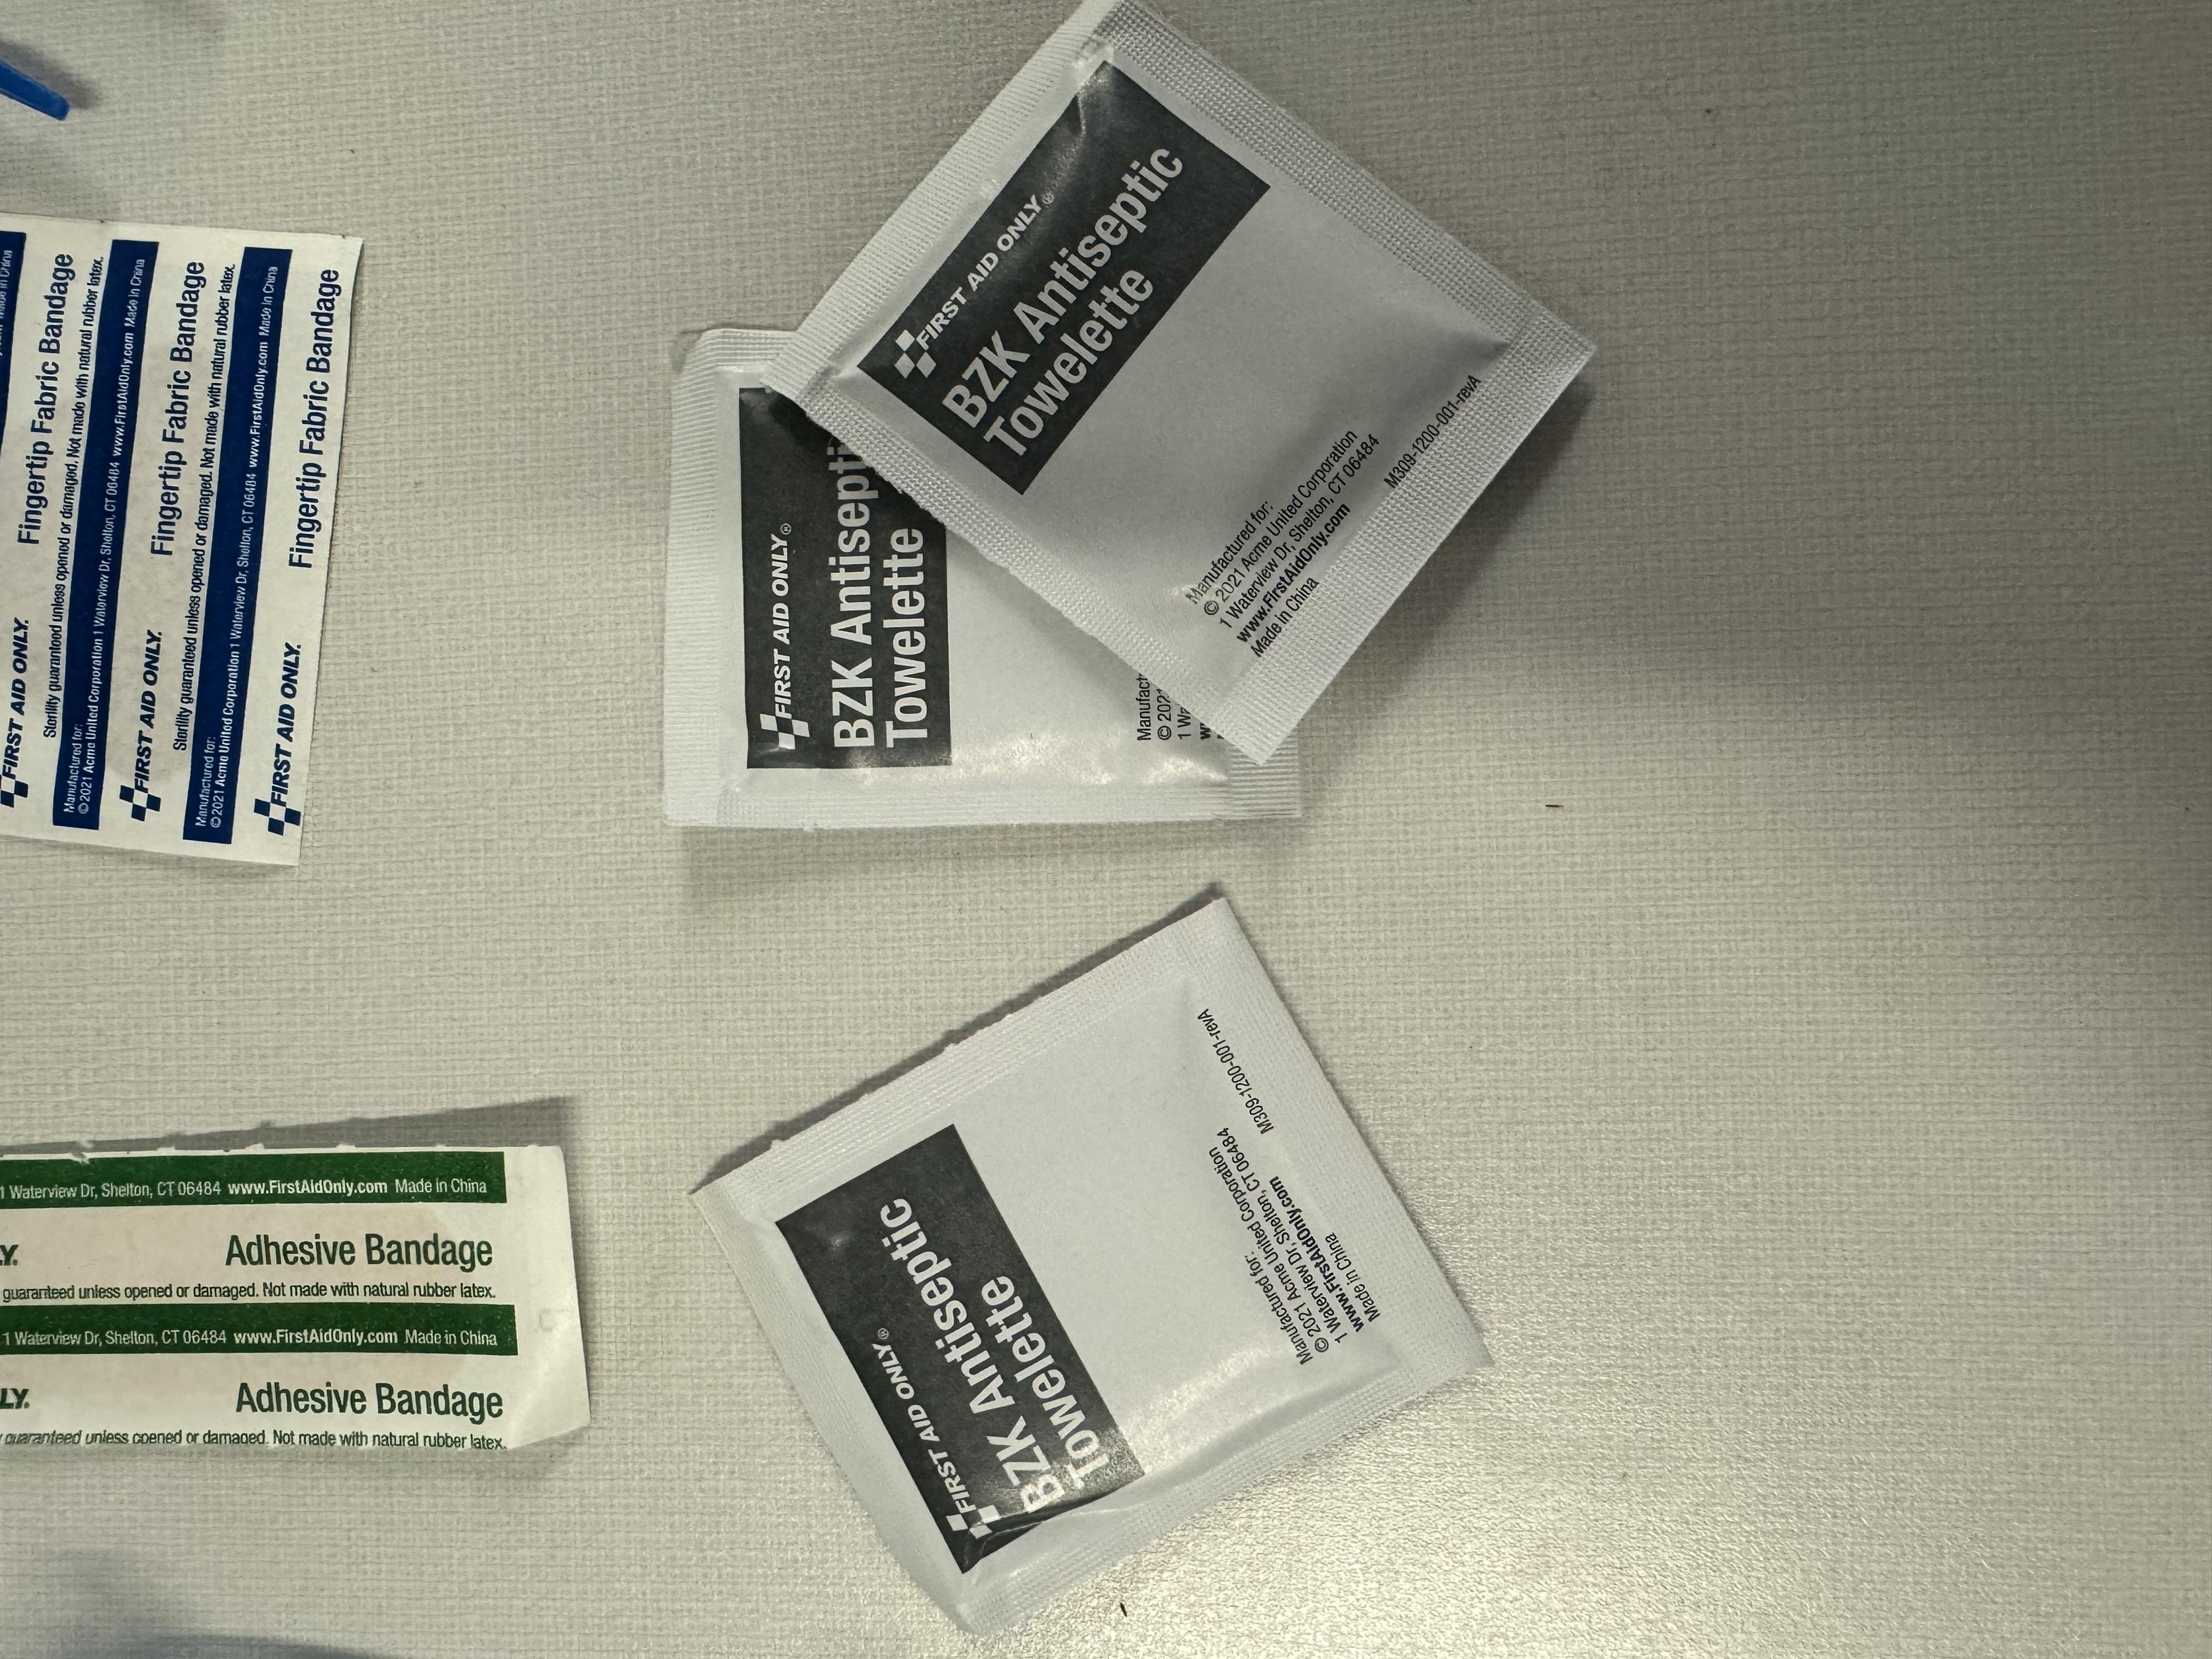antiseptic wipe: (1075, 444, 2212, 1201), (29, 510, 1039, 1164)
bandage: (984, 0, 2008, 319), (187, 0, 750, 461)
